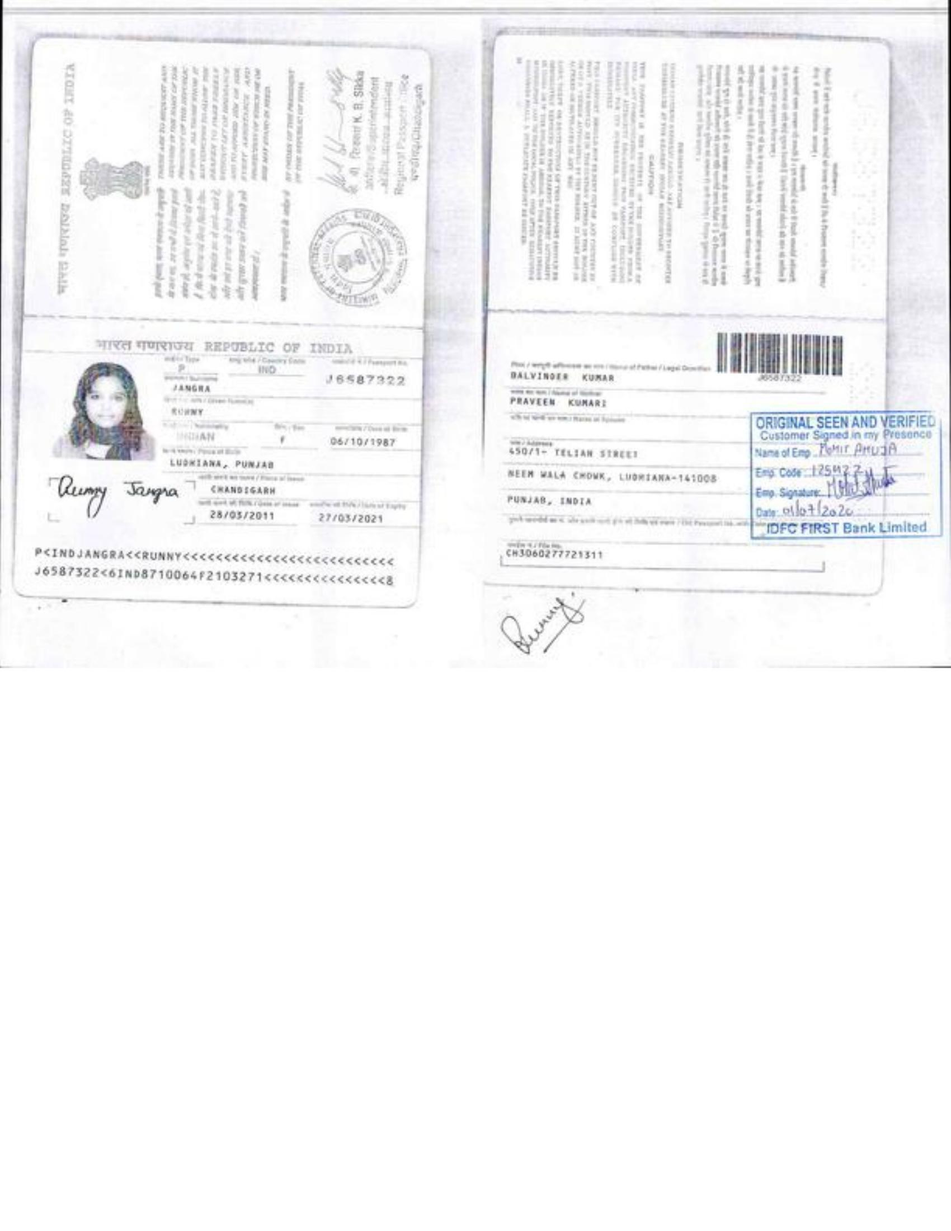DOB: (314, 434, 409, 453)
File_no: (503, 546, 611, 565)
Surname: (171, 380, 216, 395)
address: (498, 435, 732, 515)
country_code: (254, 364, 282, 377)
date_of_expiry: (302, 506, 399, 528)
date_of_issue: (208, 505, 288, 529)
details: (30, 543, 398, 595)
father_name: (504, 368, 616, 391)
mother_name: (507, 393, 617, 412)
name: (168, 401, 216, 422)
nationality: (163, 424, 221, 448)
passport_no: (317, 367, 413, 392), (755, 370, 811, 386)
photo: (58, 364, 152, 457)
place_of_birth: (167, 453, 277, 471)
place_of_issue: (206, 479, 279, 498)
sex: (259, 428, 299, 449)
sign: (55, 471, 185, 512)
type: (168, 359, 203, 379)
